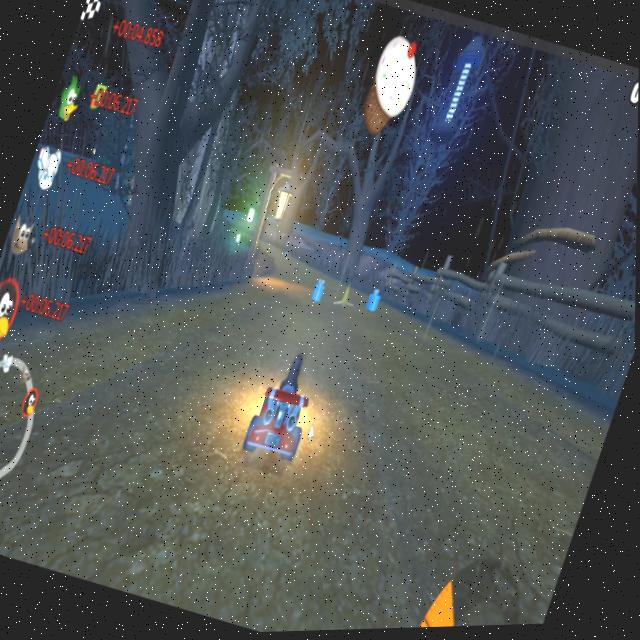bonus: (309, 274, 331, 309), (366, 289, 388, 317)
obstacle: (333, 281, 359, 316)
player_kart: (235, 350, 325, 470)
